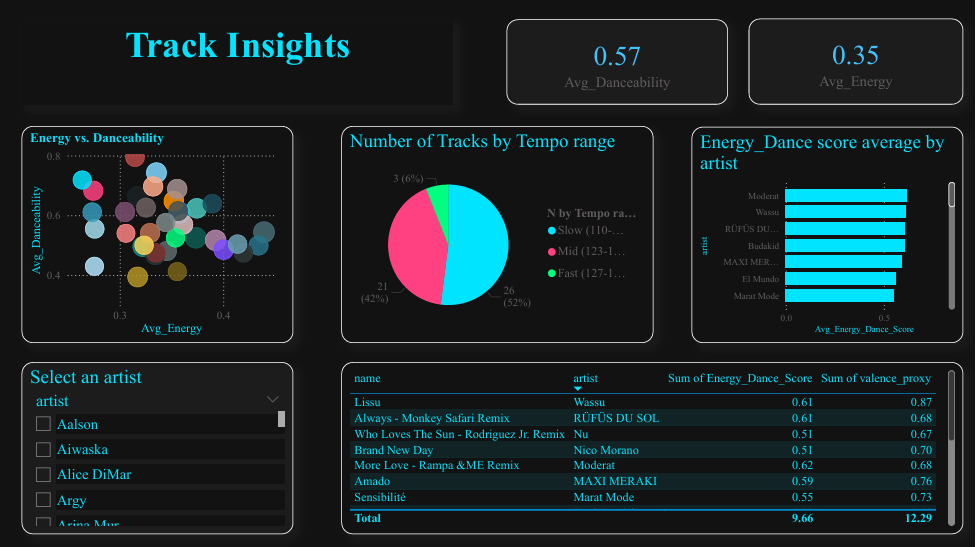

Layout of this report page (visuals, bound fields, positions):
{"tool":"powerbi","page":{"name":"Melodic Techno Insights 2025","canvas":[1280,720],"ordinal":0},"visuals":[{"type":"scatterChart","title":"Energy vs. Danceability","fields":{"Series":["melodic_techno_tracks_cleaned.artist"],"X":["melodic_techno_tracks_cleaned.Avg_Energy"],"Y":["melodic_techno_tracks_cleaned.Avg_Danceability"],"Size":["melodic_techno_tracks_cleaned.Avg_Valence"]},"box":[27.9,164.6,357.1,285.1],"z":0},{"type":"barChart","title":"Energy_Dance score average by artist","fields":{"Category":["melodic_techno_tracks_cleaned.artist"],"Y":["melodic_techno_tracks_cleaned.Avg_Energy_Dance_Score"]},"box":[908.1,166,357.1,283.6],"z":1000},{"type":"tableEx","fields":{"Values":["melodic_techno_tracks_cleaned.name","melodic_techno_tracks_cleaned.artist","melodic_techno_tracks_cleaned.Energy_Dance_Score","melodic_techno_tracks_cleaned.valence_proxy"]},"box":[448.2,474.6,817,226.3],"z":2000},{"type":"pieChart","title":"Number of Tracks by Tempo range","fields":{"Category":["melodic_techno_tracks_cleaned.Tempo_Range"],"Y":["melodic_techno_tracks_cleaned.name"]},"box":[448.2,164.6,410,285.1],"z":3000},{"type":"slicer","title":"Select an artist","fields":{"Values":["melodic_techno_tracks_cleaned.artist"]},"box":[27.9,474.6,357.1,226.3],"z":4000},{"type":"card","fields":{"Values":["melodic_techno_tracks_cleaned.Avg_Danceability"]},"box":[664.7,25.4,291.3,112],"z":5000},{"type":"card","fields":{"Values":["melodic_techno_tracks_cleaned.Avg_Energy"]},"box":[983,23.5,282.1,113.1],"z":6000},{"type":"textbox","box":[27.9,25,567.2,113.1],"z":7000}]}

Visuals, with their boxes in screenshot pixels (x1, y1, x2, y2), scaled from the page's 1280x720 canvas onto the 977x547 screenshot:
"Energy vs. Danceability" scatterChart: [x1=21, y1=125, x2=294, y2=342]
"Energy_Dance score average by artist" barChart: [x1=693, y1=126, x2=966, y2=342]
tableEx - melodic_techno_tracks_cleaned.name x melodic_techno_tracks_cleaned.artist: [x1=342, y1=361, x2=966, y2=532]
"Number of Tracks by Tempo range" pieChart: [x1=342, y1=125, x2=655, y2=342]
"Select an artist" slicer: [x1=21, y1=361, x2=294, y2=532]
card - melodic_techno_tracks_cleaned.Avg_Danceability: [x1=507, y1=19, x2=730, y2=104]
card - melodic_techno_tracks_cleaned.Avg_Energy: [x1=750, y1=18, x2=966, y2=104]
textbox: [x1=21, y1=19, x2=454, y2=105]
